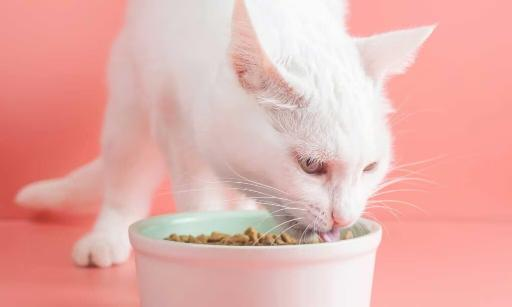cat_eating: (16, 0, 434, 307)
